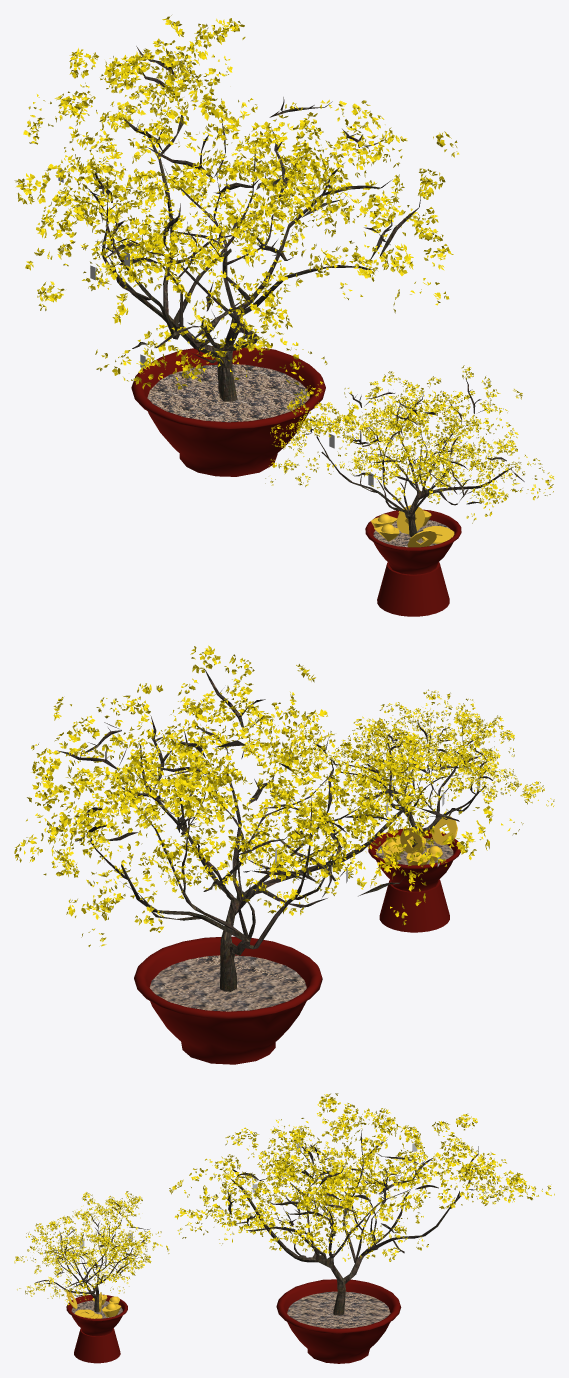
Rendered from chau hoa 2.fbx.
3 renders of one model, top to bottom at view 1: azimuth 30°, elevation 25°; view 2: azimuth 150°, elevation 25°; view 3: azimuth 270°, elevation 25°, orthographic. The views are drawn at different scales.
Visible parts, largest first — view 1: Plane.007, Plane.006; view 2: Plane.007, Plane.006; view 3: Plane.007, Plane.006.
Boxes of the visible parts, box(x1,y1,x2,y2) form: Plane.007: box(14, 15, 459, 476); Plane.006: box(265, 365, 554, 616); Plane.007: box(14, 645, 523, 1064); Plane.006: box(288, 689, 554, 932); Plane.007: box(169, 1093, 554, 1363); Plane.006: box(14, 1191, 169, 1363).
Bounding box in the file's own units: 816 × 695 × 1401.
Materials: 6 (2 with a texture image).
